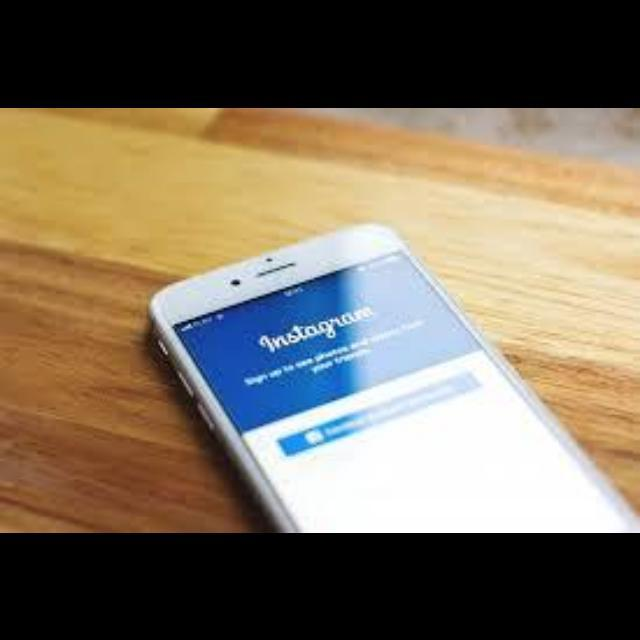Phone: (132, 225, 640, 529)
